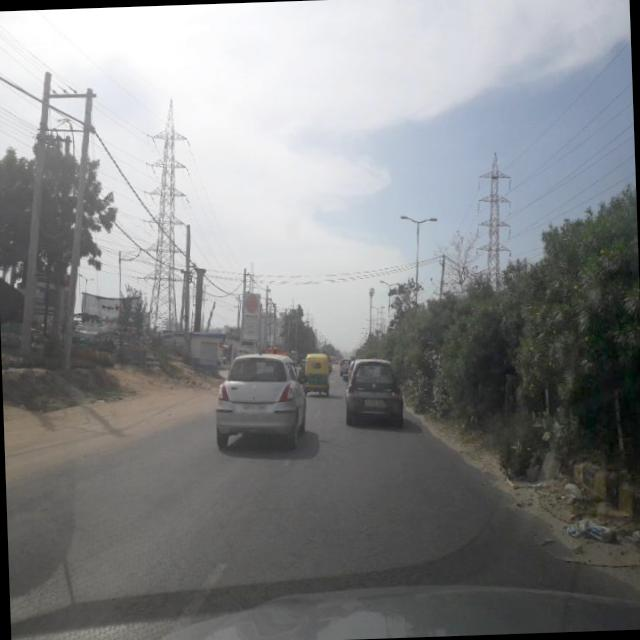crack: (16, 443, 541, 630)
